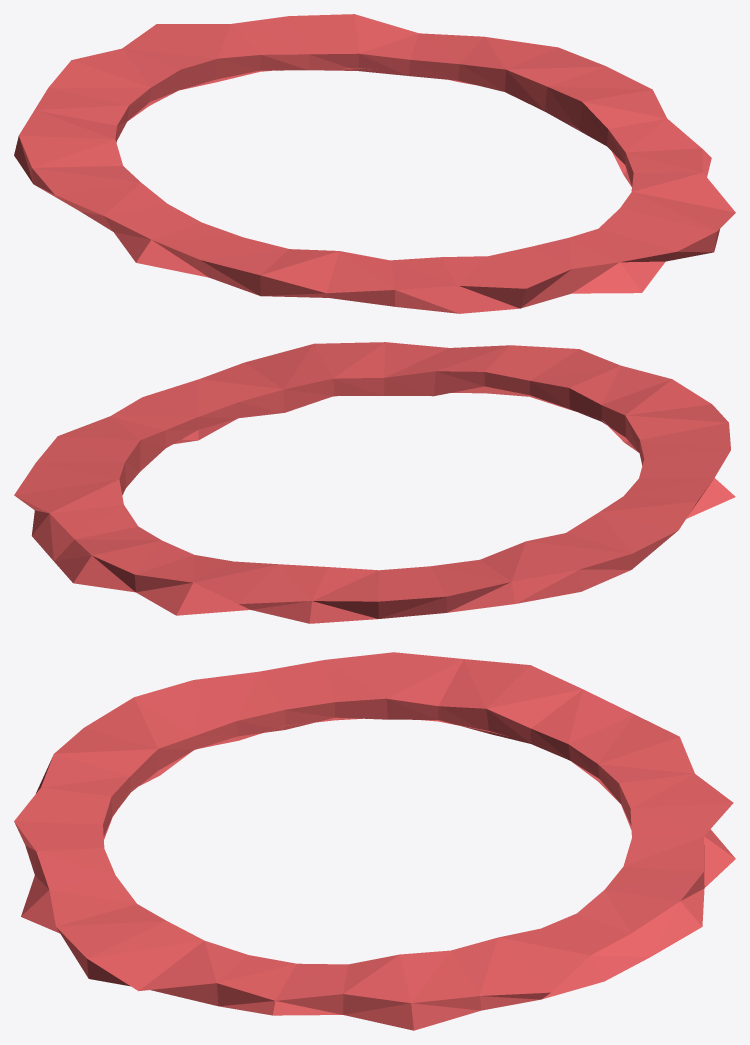
File: ringThree.fbx
3 views of the same model, one above another, from view 1: azimuth 30°, elevation 25°; view 2: azimuth 150°, elevation 25°; view 3: azimuth 270°, elevation 25° (orthographic).
Parts seen in each view (by area): view 1: Cylinder.005; view 2: Cylinder.005; view 3: Cylinder.005.
Boxes of the visible parts, x1,y1,x2,y2 form: Cylinder.005: (14,14,735,313); Cylinder.005: (14,342,735,623); Cylinder.005: (14,652,735,1030).
Size of the model in its own units: 2720 by 322 by 2719.
